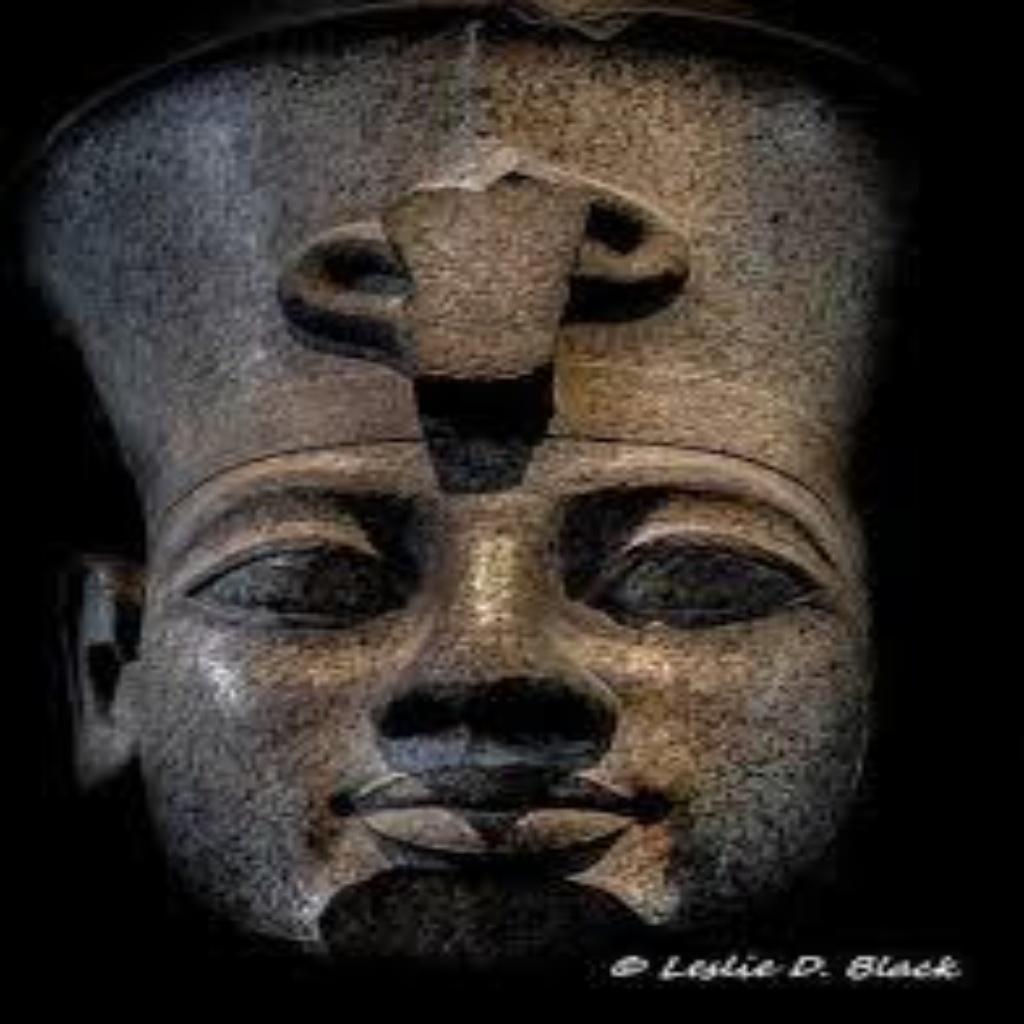Head Statue of Amenhotep iii: (0, 0, 935, 968)
